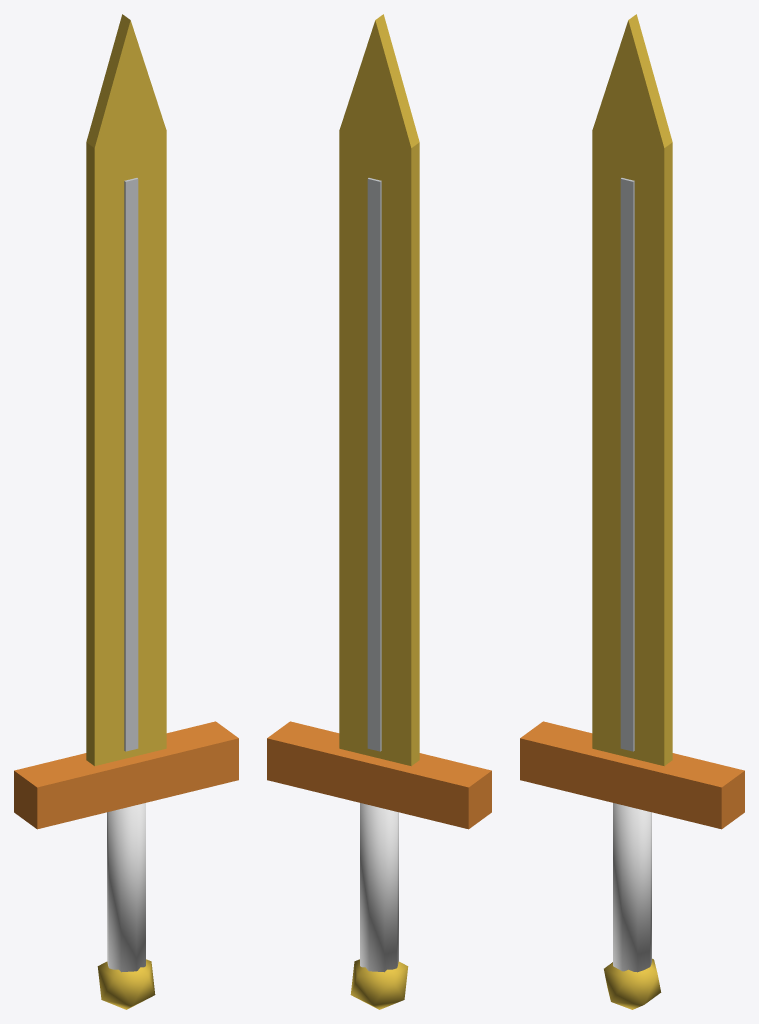
Rendered from starfury.glb.
The picture shows the model from 3 angles, left to right: view 1: azimuth 30°, elevation 25°; view 2: azimuth 150°, elevation 25°; view 3: azimuth 330°, elevation 25°; orthographic projection.
Parts seen in each view (by area): view 1: starfury_v0; view 2: starfury_v0; view 3: starfury_v0.
Part boxes in pixels (x1,y1,x2,y2): starfury_v0: [14, 14, 238, 1009]; starfury_v0: [267, 14, 491, 1009]; starfury_v0: [520, 14, 744, 1009].
Bounding box in the file's own units: 0.252 × 1.18 × 0.0595.
